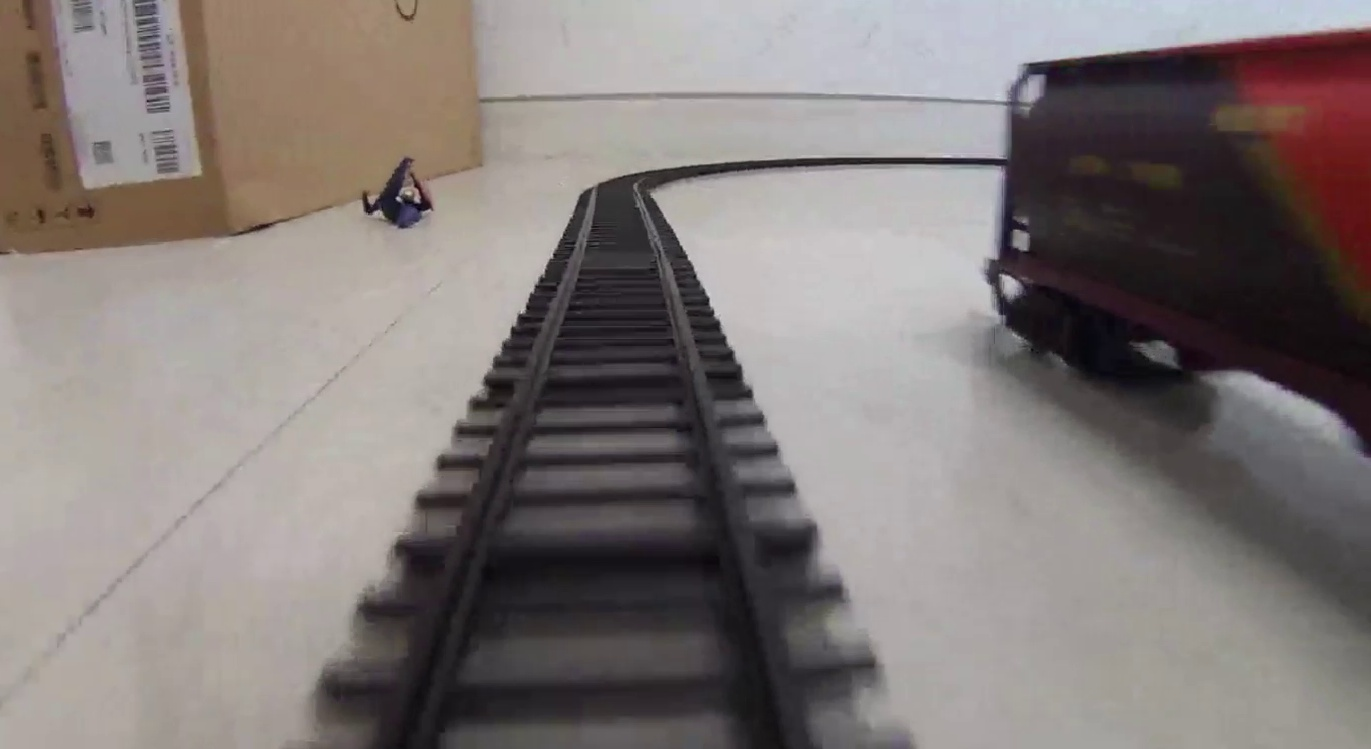people: (359, 156, 437, 232)
